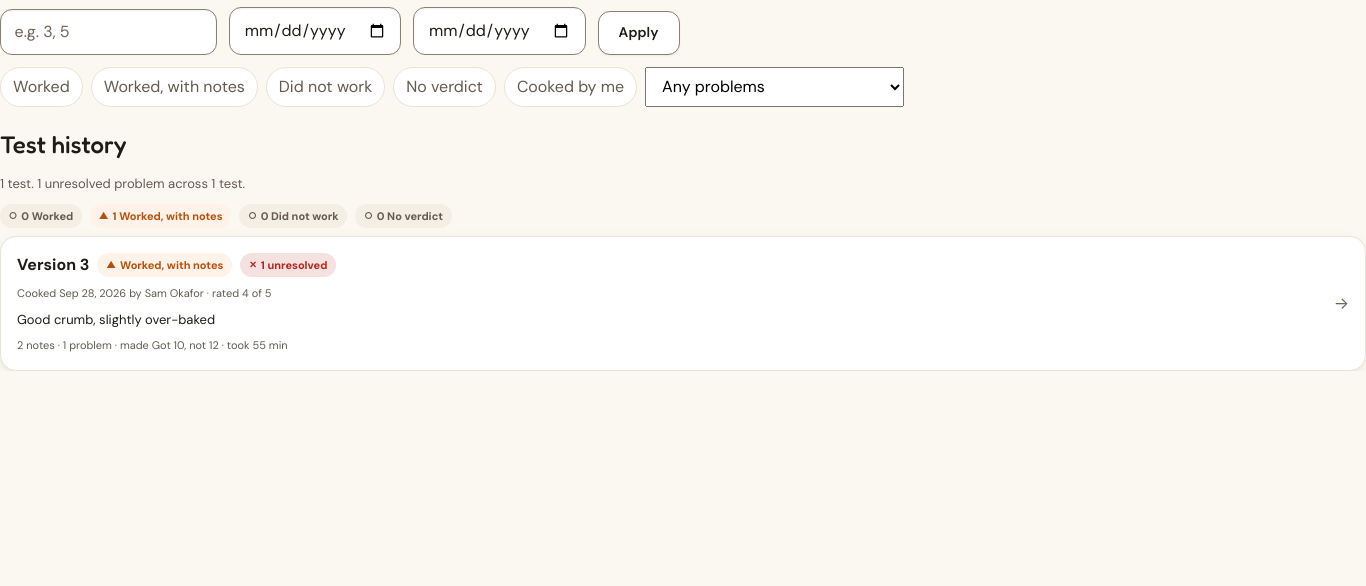
it: RecipeTestKitchenComponent › reads the picked test whole, rather than showing only what the row carried
This screenshot has width=1366, height=586.
Click the button with class "run-button" at (683, 304), box [1,237,1365,370]
(page scrolled)
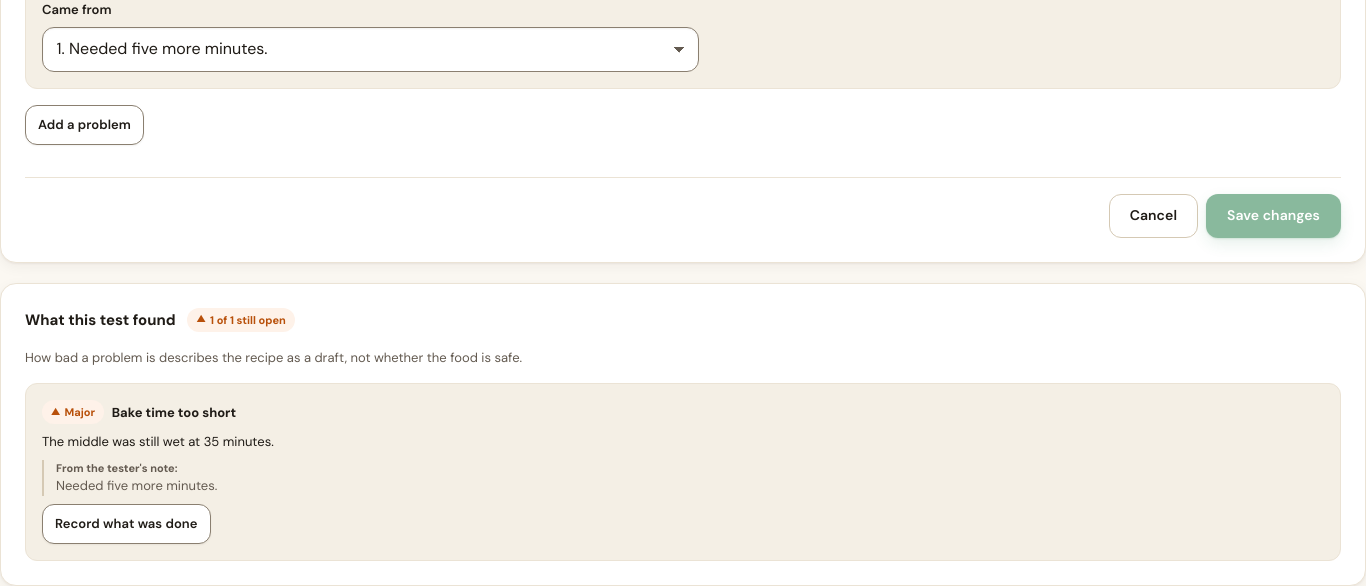
Expected: the element that starts with "What this test found" is shown, [0,283,1365,585]
Expected: the text "Bake time too short" is shown, [112,402,236,422]
